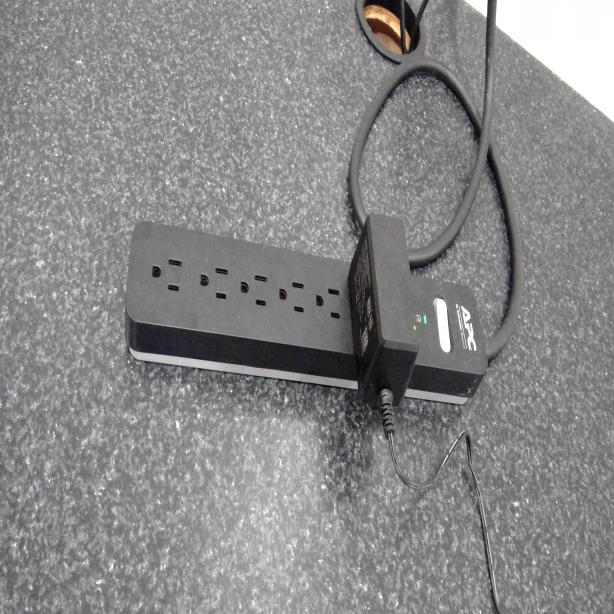typeb: (146, 245, 186, 299), (239, 264, 271, 321), (198, 255, 231, 310), (277, 271, 307, 329), (315, 275, 344, 331)
